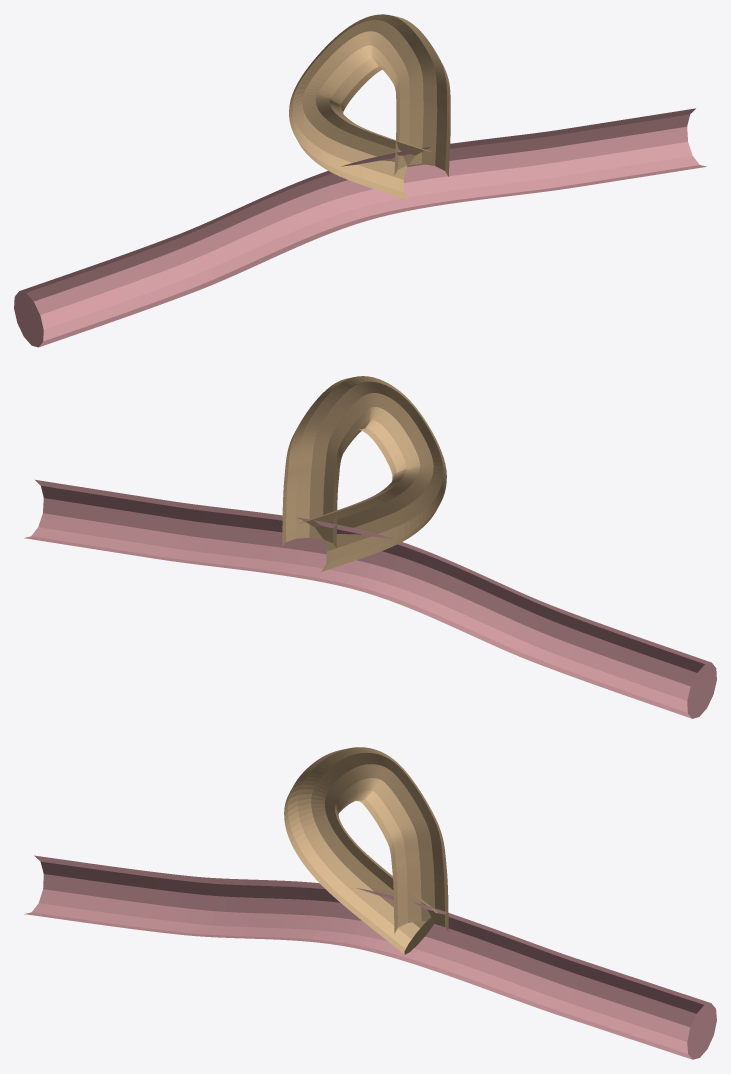
The model's file is disease_aneur.glb.
3 renders of one model, top to bottom at view 1: azimuth 30°, elevation 25°; view 2: azimuth 150°, elevation 25°; view 3: azimuth 330°, elevation 25°, orthographic.
Parts seen in each view (by area): view 1: Carótida intracraniana — vaso portador, Aneurisma sacular — contorno pedagógico; view 2: Carótida intracraniana — vaso portador, Aneurisma sacular — contorno pedagógico; view 3: Carótida intracraniana — vaso portador, Aneurisma sacular — contorno pedagógico.
Part boxes in pixels (x1,y1,x2,y2): Carótida intracraniana — vaso portador: (14,108,706,347); Aneurisma sacular — contorno pedagógico: (289,14,450,200); Carótida intracraniana — vaso portador: (24,480,716,718); Aneurisma sacular — contorno pedagógico: (282,376,446,571); Carótida intracraniana — vaso portador: (24,855,716,1059); Aneurisma sacular — contorno pedagógico: (284,747,448,954).
Bounding box in the file's own units: 6.04 × 2.13 × 0.5463.
